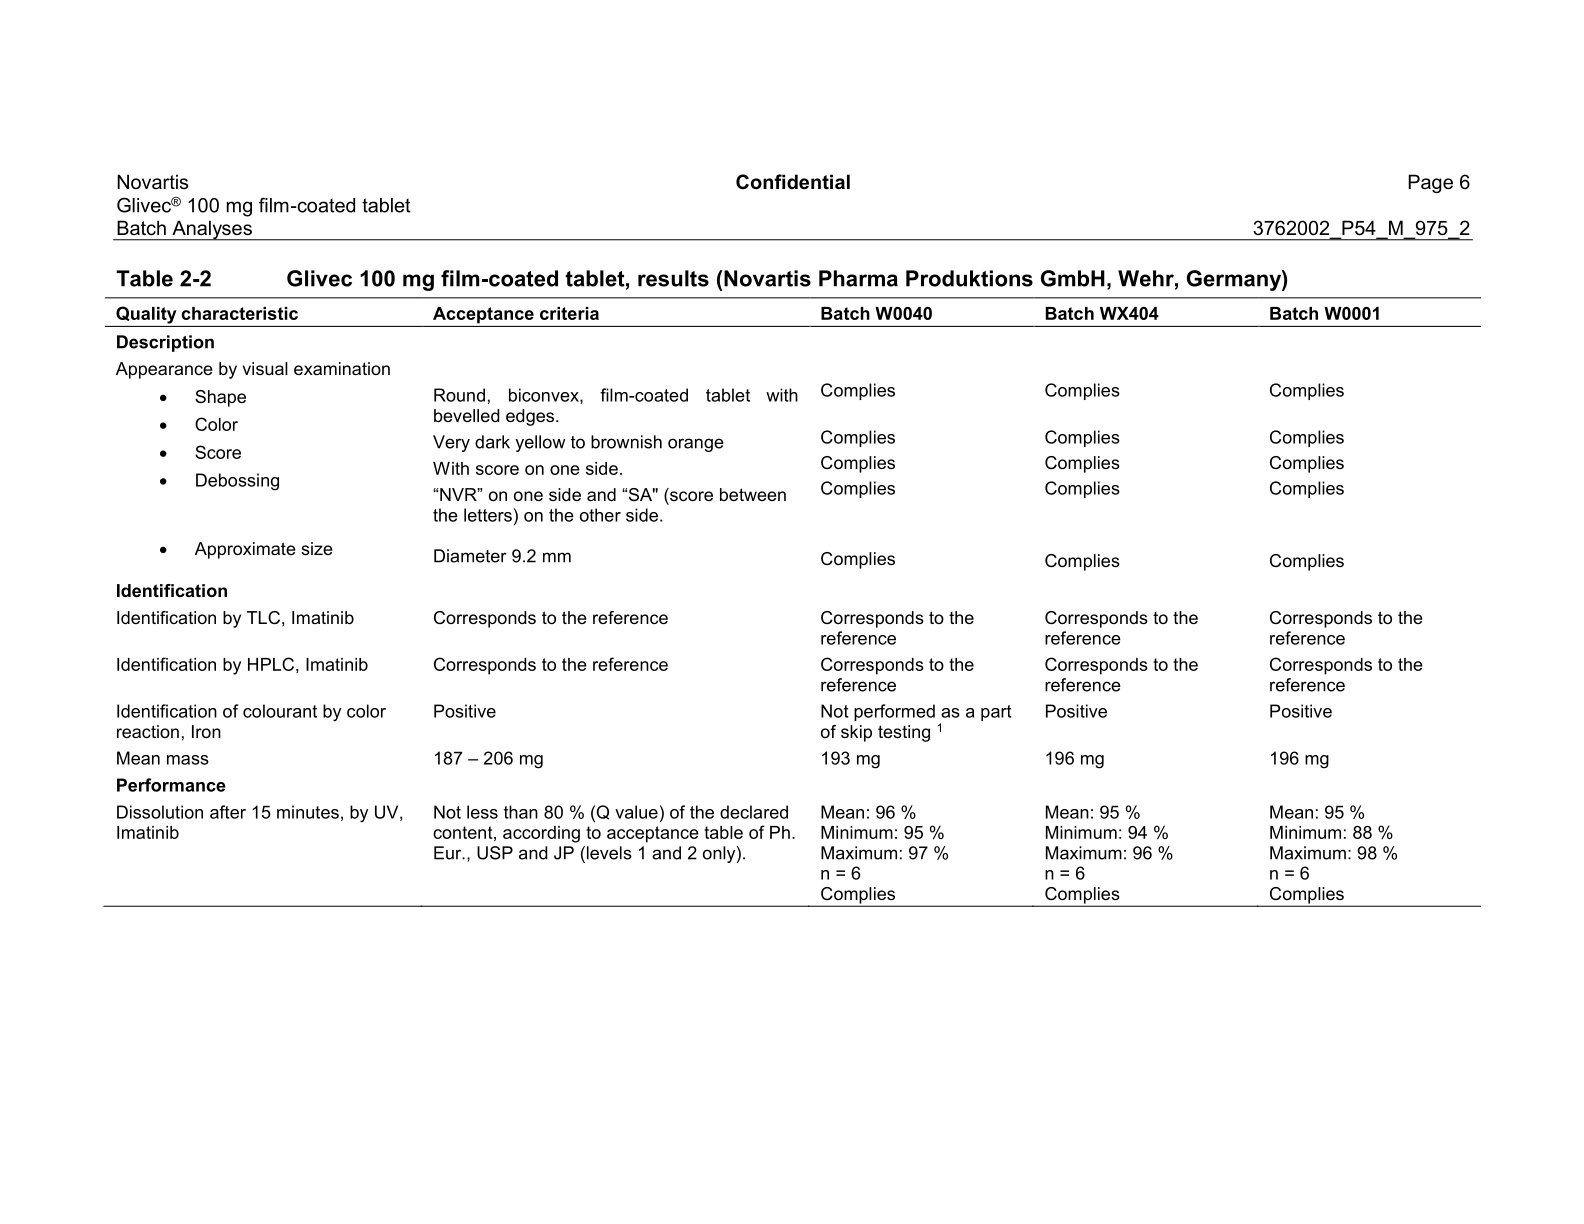partial_lined: (105, 296, 1481, 908)
